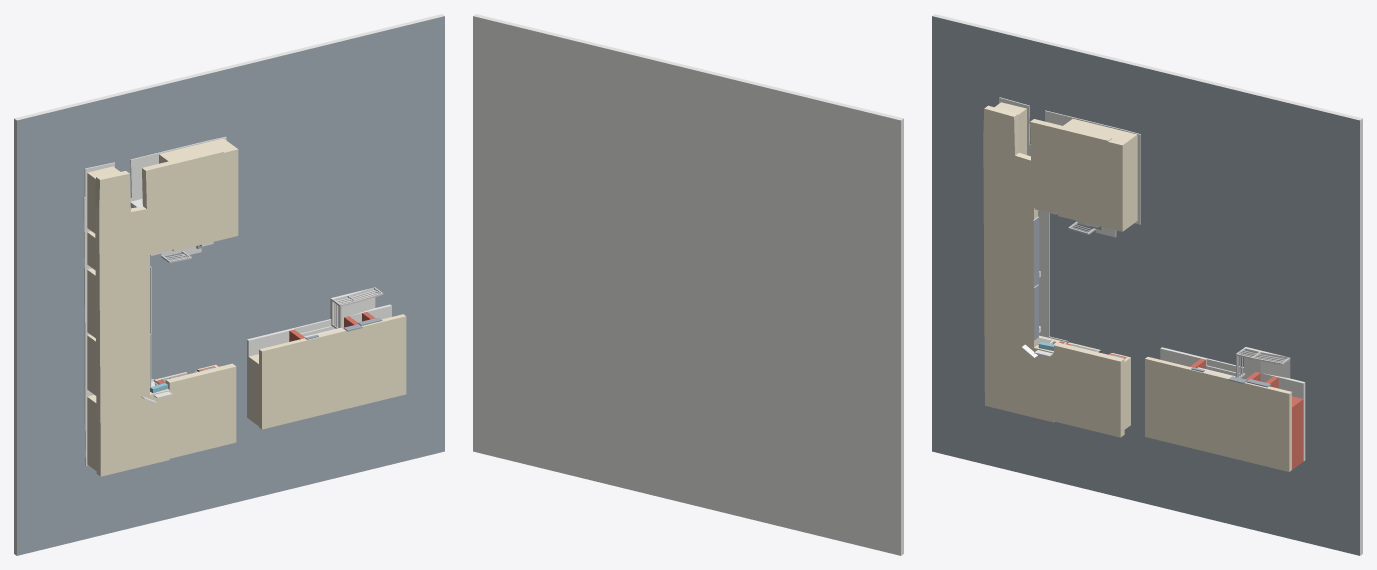
The model's file is oscmodel.gltf.
3 views of the same model, side by side, from view 1: azimuth 30°, elevation 25°; view 2: azimuth 150°, elevation 25°; view 3: azimuth 330°, elevation 25° (orthographic).
Parts seen in each view (by area): view 1: Base, Roof 1, Roof 2, Union Bank, Campus Restaurant, Unnamed shop 2, Unnamed store, Retail store, Suparsh Provision store, Railing, Noble book store; view 2: Base; view 3: Base, Roof 1, Roof 2, Union Bank, Campus Restaurant, Solid wall, Retail store, Railing.
Boxes of the visible parts, x1,y1,x2,y2 form: Base: [14, 14, 444, 555]; Roof 1: [95, 146, 238, 476]; Roof 2: [259, 314, 406, 429]; Union Bank: [154, 363, 236, 458]; Campus Restaurant: [159, 138, 233, 248]; Unnamed shop 2: [248, 354, 258, 425]; Unnamed store: [87, 395, 96, 470]; Retail store: [87, 166, 119, 233]; Suparsh Provision store: [87, 268, 95, 338]; Railing: [332, 287, 383, 328]; Noble book store: [87, 334, 96, 395]; Base: [473, 14, 903, 555]; Base: [932, 14, 1362, 555]; Roof 1: [983, 105, 1126, 422]; Roof 2: [1145, 357, 1291, 471]; Union Bank: [1054, 342, 1130, 437]; Campus Restaurant: [1063, 119, 1137, 229]; Solid wall: [1265, 376, 1303, 469]; Retail store: [994, 102, 1026, 154]; Railing: [1236, 348, 1290, 378].
Size of the model in its own units: 0.43 by 0.418 by 0.0382.
